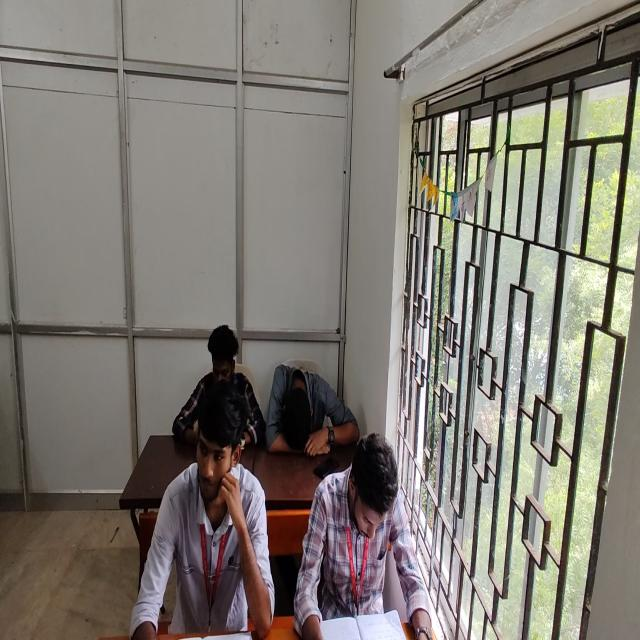listening: (132, 381, 275, 640)
reading: (297, 431, 418, 640)
sleeping: (268, 363, 359, 455)
using_mobile: (172, 322, 266, 448)
